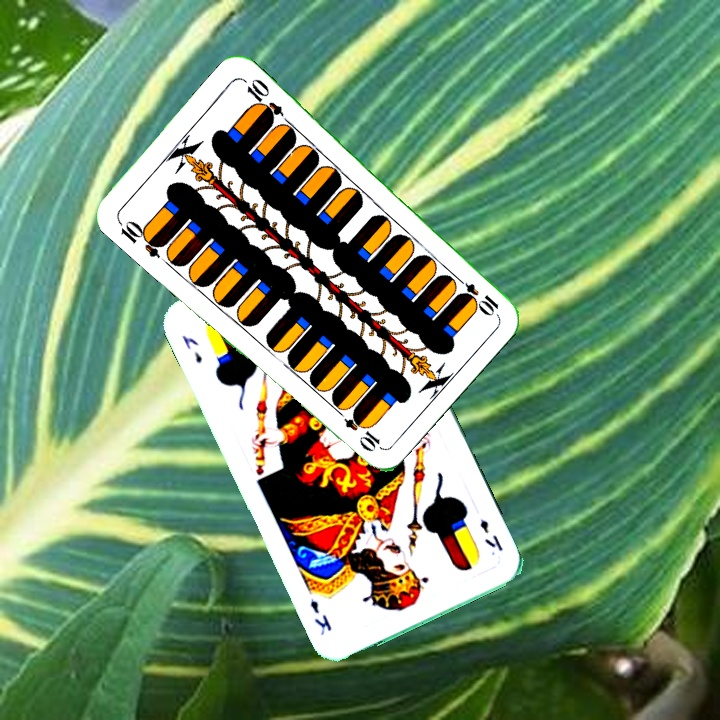E10: (113, 215, 168, 260), (449, 272, 502, 318)
EK: (475, 515, 506, 554), (178, 331, 205, 366)
